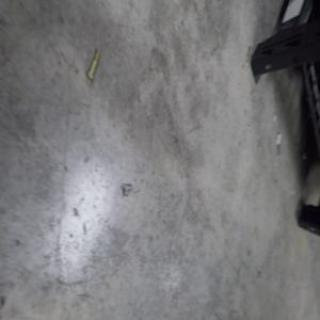Bolttrack_idkeyframe: (84, 46, 100, 82)
